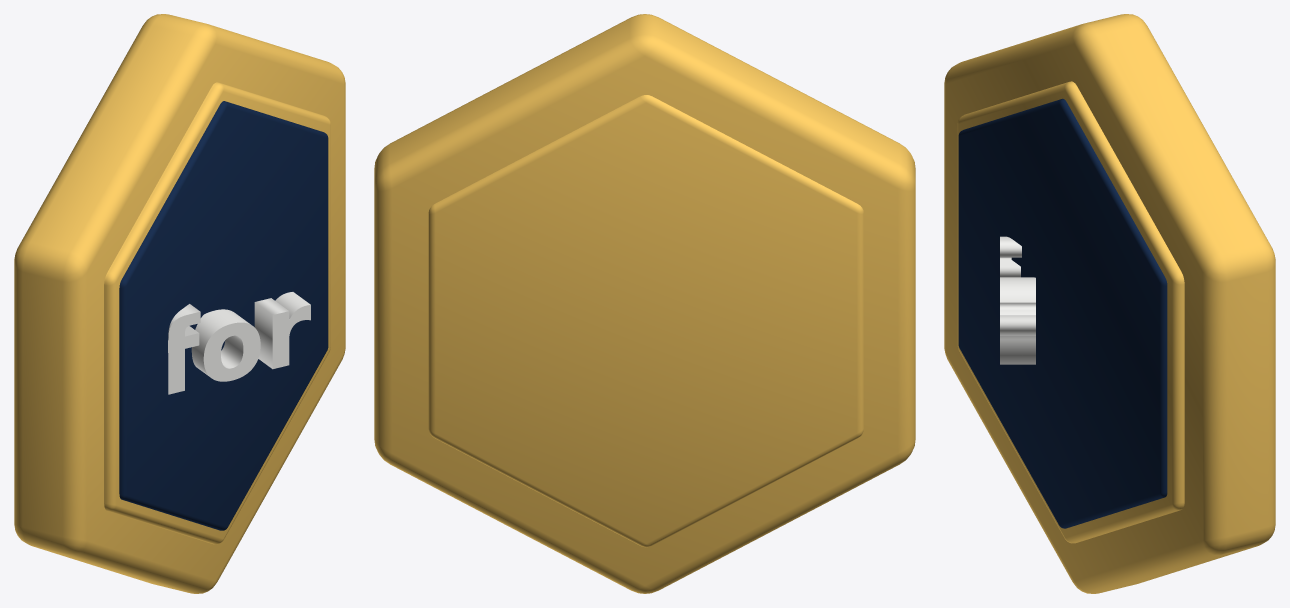
Rendered from sheet-2.glb.
The picture shows the model from 3 angles, left to right: view 1: azimuth 30°, elevation 25°; view 2: azimuth 150°, elevation 25°; view 3: azimuth 270°, elevation 25°; orthographic projection.
Visible parts, largest first — view 1: frame, panel, ring, Text; view 2: ring, frame; view 3: frame, panel, ring, Text.
Part boxes in pixels (x1,y1,x2,y2): frame: (14,14,345,593); panel: (119,101,328,530); ring: (104,82,330,544); Text: (168,292,310,394); ring: (428,95,863,547); frame: (374,14,915,593); frame: (944,14,1275,593); panel: (958,98,1167,528); ring: (957,81,1184,543); Text: (1000,236,1035,364).
Size of the model in its own units: 0.9825 by 1.22 by 0.6486.
